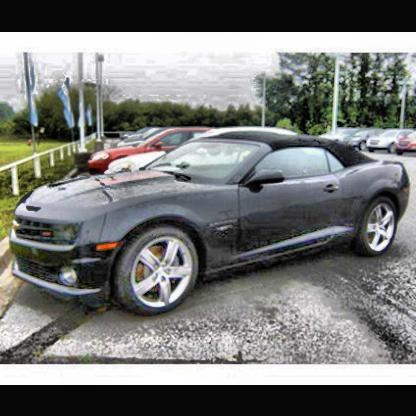Chevrolet Camaro Convertible 2012: (8, 127, 415, 321)
